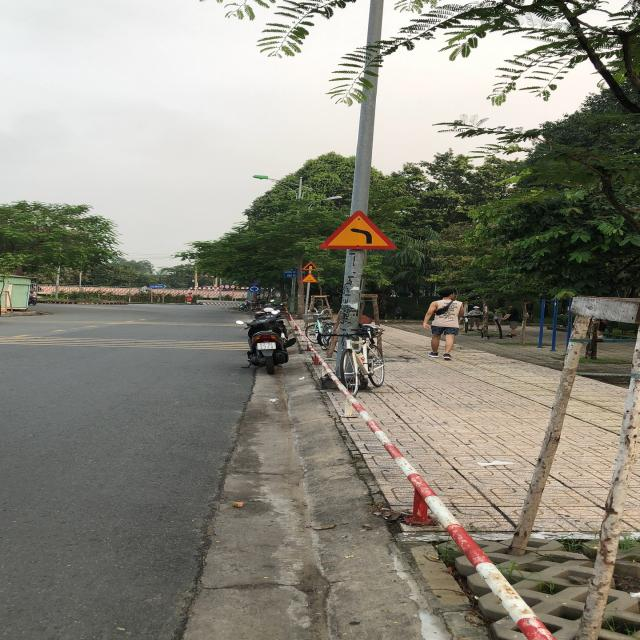Bien bao cho ngoat nguy hiem: (318, 210, 397, 250)
Bien bao di cham: (298, 272, 319, 282)
Bien bao noi giao nhau chay theo vong xuyen: (246, 286, 261, 292)
